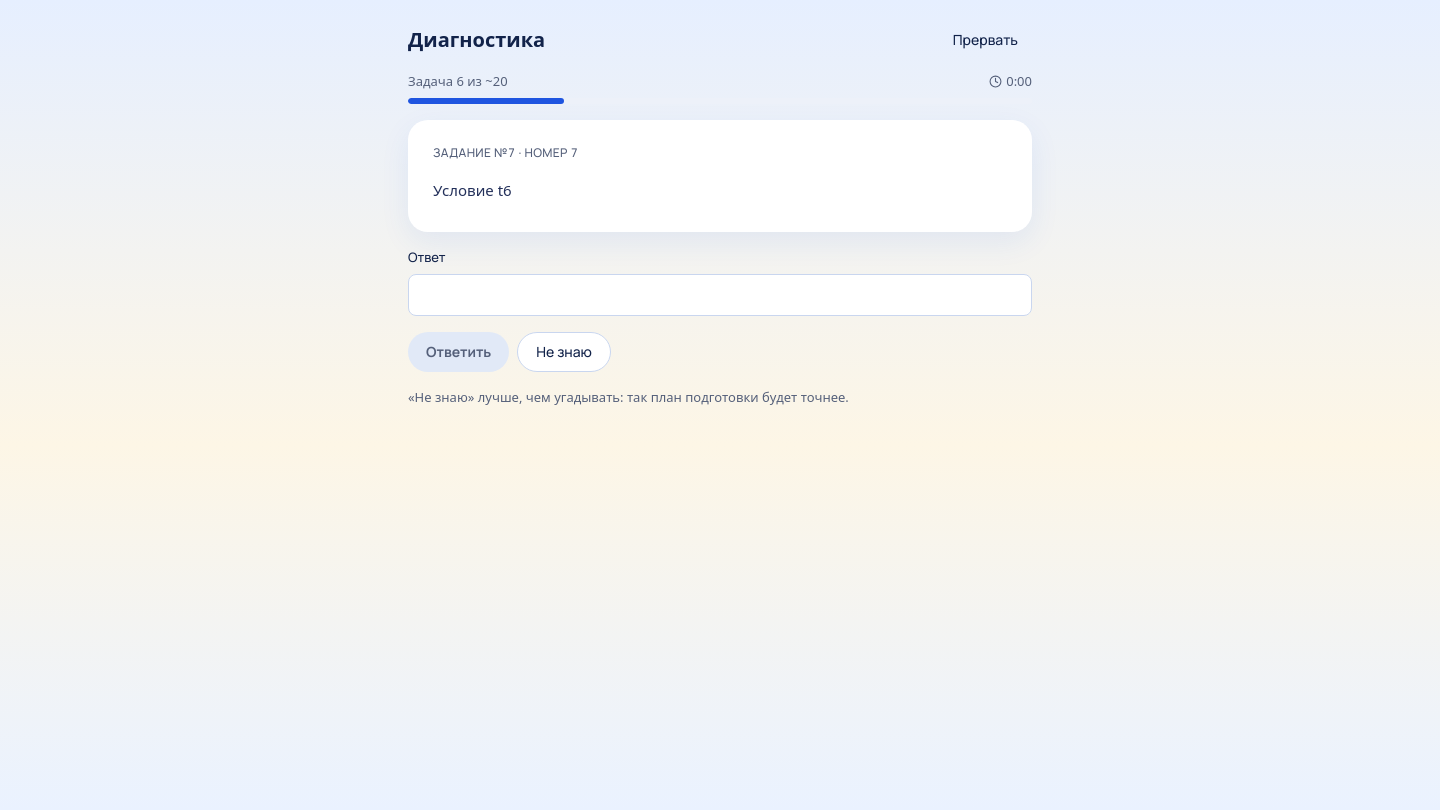
/diagnostic › начата — сразу та же задача (продолжение); «задача сменилась» — актуальная
expect the text "Условие t6" is shown: met, box [433,180,512,200]
expect the text with test id "diagnostic-step" reads "Задача 6 из ~20": met, box [408,72,508,92]
Click the button with test id "diagnostic-dont-know". click: (564, 352)
box: [517,332,611,372]
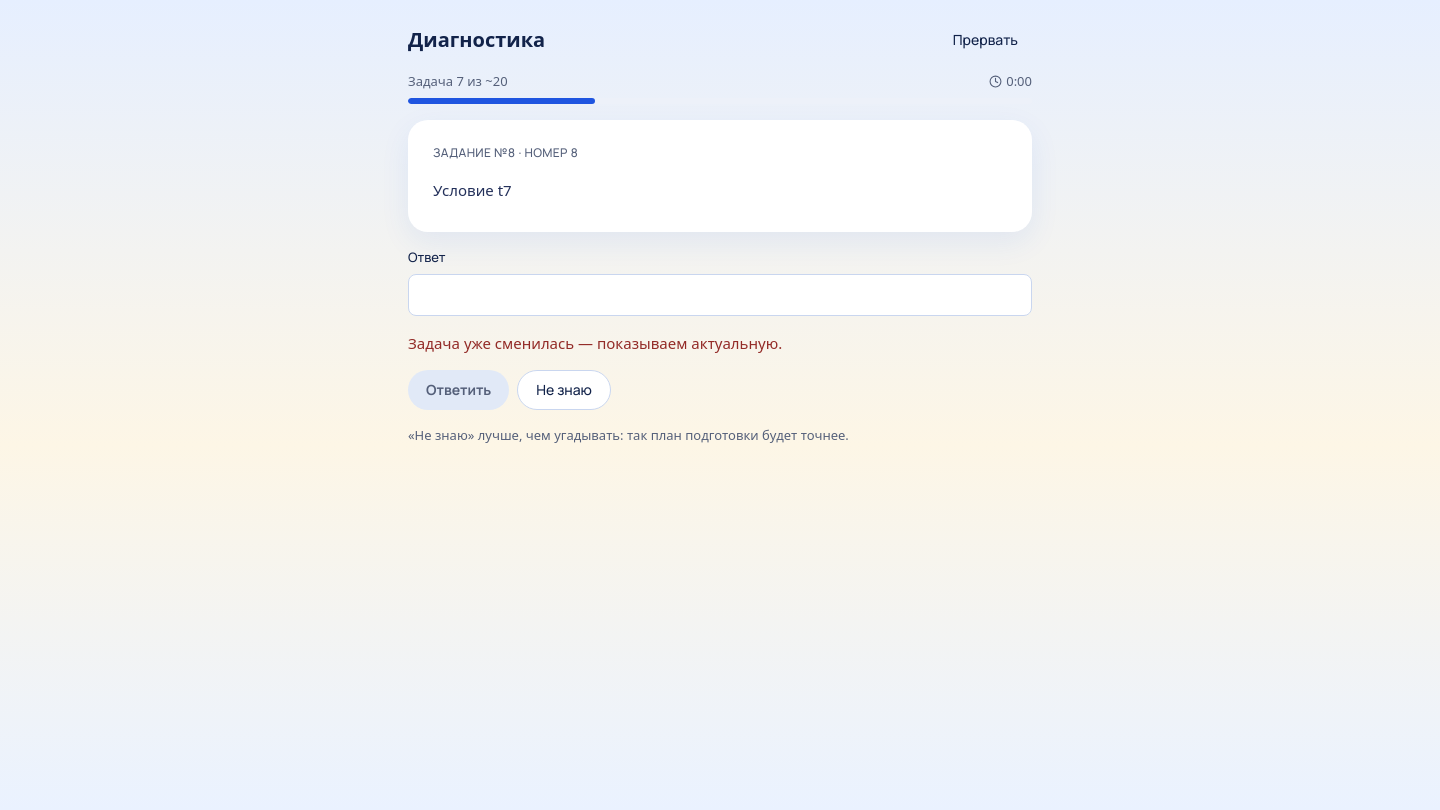
expect the text "Условие t7" is shown: met, box [433,180,512,200]
expect the message with test id "diagnostic-error" shows "Задача уже сменилась": met, box [408,332,782,352]
